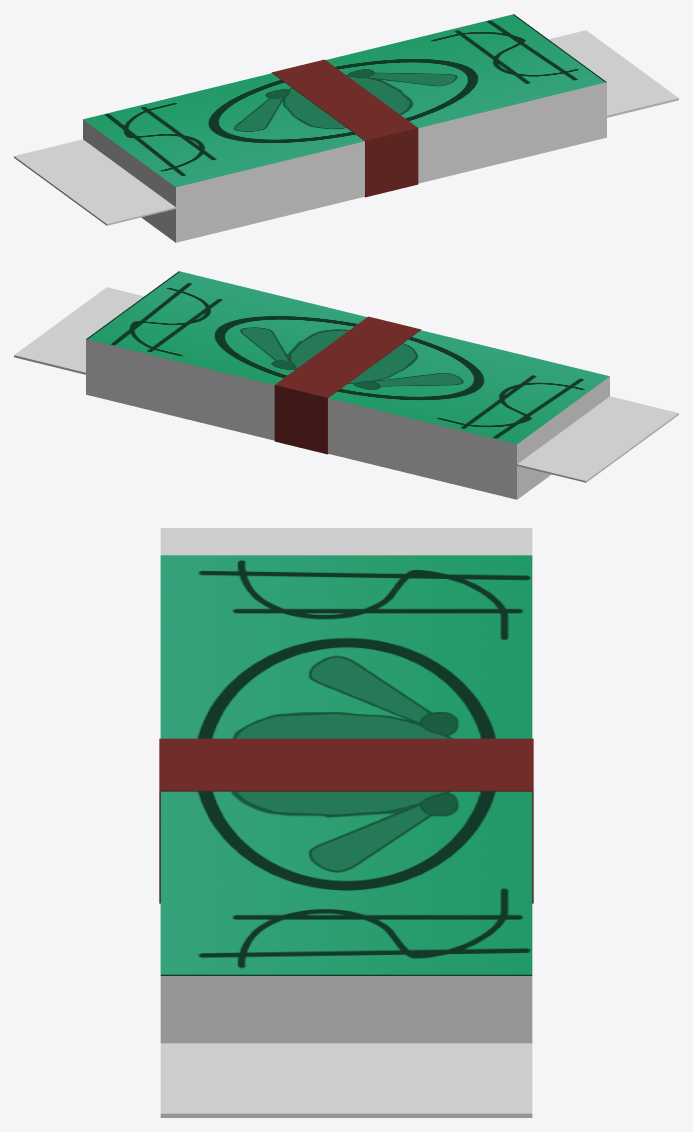
Rendered from money stack (money sticking out).fbx.
3 renders of one model, top to bottom at view 1: azimuth 30°, elevation 25°; view 2: azimuth 150°, elevation 25°; view 3: azimuth 270°, elevation 25°, orthographic. The views are drawn at different scales.
Parts seen in each view (by area): view 1: Plane; view 2: Plane; view 3: Plane.
Part boxes in pixels (x1=…): Plane: x1=14, y1=14, x2=678, y2=242; Plane: x1=14, y1=271, x2=678, y2=499; Plane: x1=159, y1=528, x2=533, y2=1117.
Bounding box in the file's own units: 803 × 75.84 × 227.
